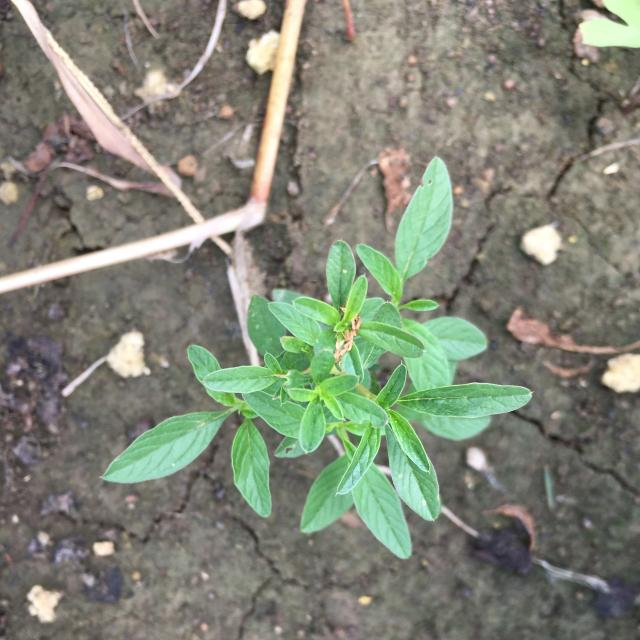Waterhemp: (101, 157, 532, 559)
